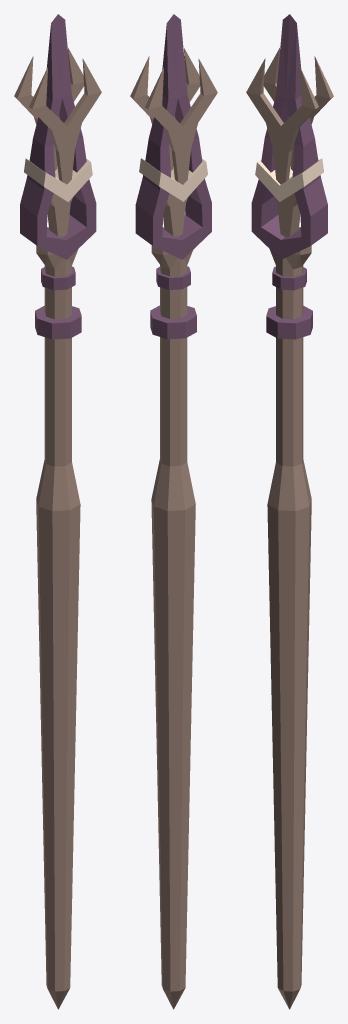
File: cane-5.glb
3 views of the same model, side by side, from view 1: azimuth 30°, elevation 25°; view 2: azimuth 210°, elevation 25°; view 3: azimuth 330°, elevation 25° (orthographic).
Parts seen in each view (by area): view 1: cane_5; view 2: cane_5; view 3: cane_5.
Boxes of the visible parts, box(x1,y1,x2,y2) form: cane_5: box(14, 14, 101, 1009); cane_5: box(130, 14, 217, 1009); cane_5: box(246, 14, 333, 1009).
Bounding box in the file's own units: 13.7 × 187 × 8.27.
Materials: 1 (1 with a texture image).
